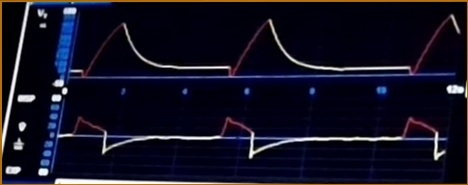Flow: (65, 106, 447, 170)
Leakage Volume: (77, 11, 462, 84)
